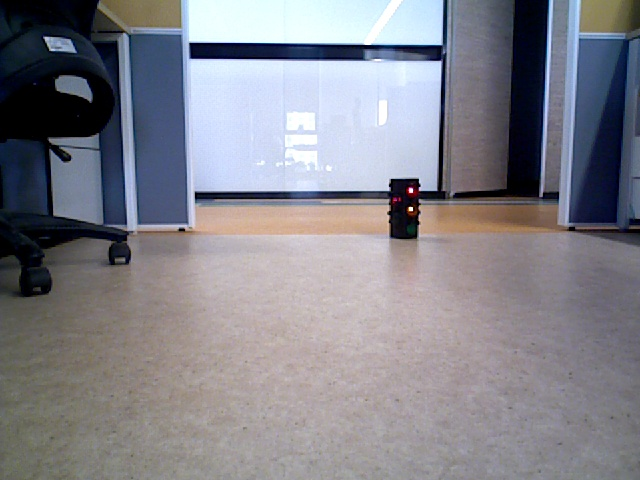red: (388, 180, 419, 235)
